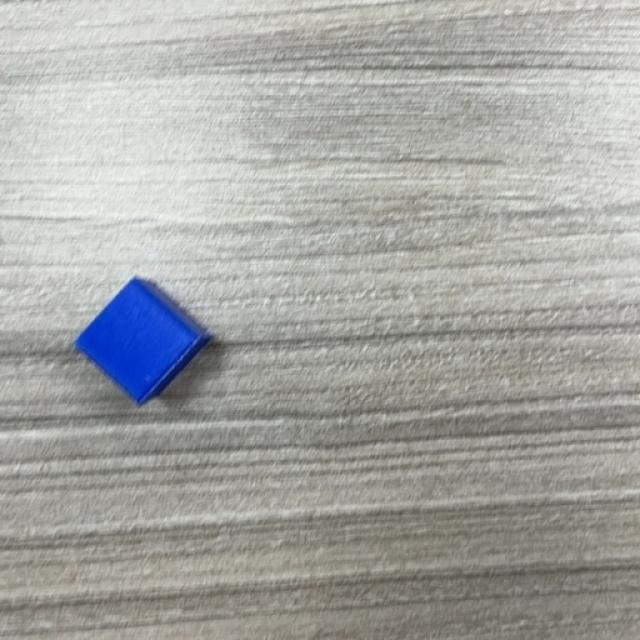Azul: (71, 278, 215, 408)
